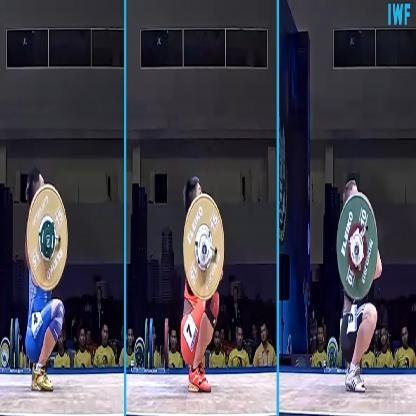barbell: (182, 192, 225, 300), (336, 193, 379, 300), (26, 184, 68, 291)
